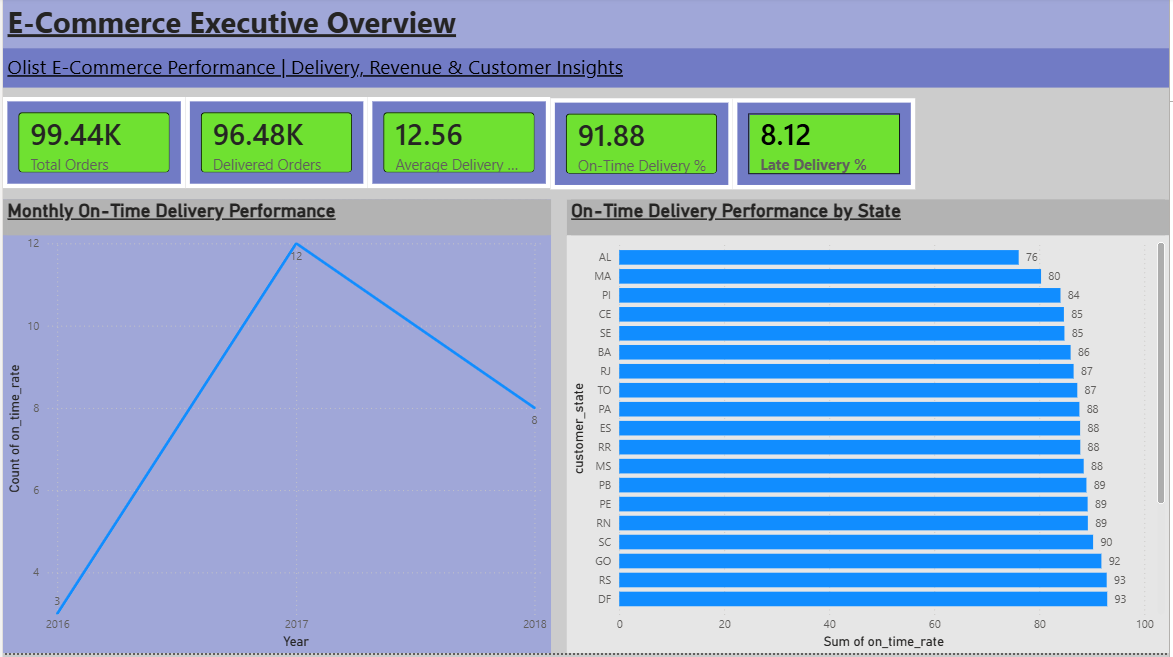

What the dashboard file says about the page in this screenshot:
{"tool":"powerbi","page":{"name":"Executive Overview","canvas":[1280,720],"ordinal":0},"visuals":[{"type":"cardVisual","fields":{"Data":["category_performance.Total Orders"]},"box":[0,110,200,100],"z":0},{"type":"cardVisual","fields":{"Data":["category_performance.Delivered Orders"]},"box":[200.3,109.8,200,100],"z":1000},{"type":"cardVisual","fields":{"Data":["category_performance.Average Delivery Days"]},"box":[400.7,109.8,200,100],"z":2000},{"type":"cardVisual","fields":{"Data":["category_performance.On-Time Delivery %"]},"box":[601,111.1,200,100],"z":3000},{"type":"cardVisual","fields":{"Data":["category_performance.Late Delivery %"]},"box":[801.4,111.1,200,100],"z":4000},{"type":"lineChart","title":"Monthly On-Time Delivery Performance","fields":{"Category":["monthly_delivery_performance.order_month.Variation.Date Hierarchy.Year","monthly_delivery_performance.order_month.Variation.Date Hierarchy.Quarter","monthly_delivery_performance.order_month.Variation.Date Hierarchy.Month","monthly_delivery_performance.order_month.Variation.Date Hierarchy.Day"],"Y":["CountNonNull(monthly_delivery_performance.on_time_rate)"]},"box":[0,221.7,601.7,498.3],"z":5000},{"type":"clusteredBarChart","title":"On-Time Delivery Performance by State","fields":{"Category":["state_delivery_performance.customer_state"],"Y":["Sum(state_delivery_performance.on_time_rate)"]},"box":[618.3,221.7,661.7,498.3],"z":6000},{"type":"textbox","box":[0,0,1280,56.7],"z":7000},{"type":"textbox","box":[0,56.7,1280,43.3],"z":8000}]}

Visuals, with their boxes in screenshot pixels (x1, y1, x2, y2), scaled from the page's 1280x720 canvas onto the 1173x657 screenshot:
cardVisual - category_performance.Total Orders: 0, 100, 183, 192
cardVisual - category_performance.Delivered Orders: 184, 100, 367, 191
cardVisual - category_performance.Average Delivery Days: 367, 100, 550, 191
cardVisual - category_performance.On-Time Delivery %: 551, 101, 734, 193
cardVisual - category_performance.Late Delivery %: 734, 101, 918, 193
"Monthly On-Time Delivery Performance" lineChart: 0, 202, 551, 656
"On-Time Delivery Performance by State" clusteredBarChart: 567, 202, 1172, 656
textbox: 0, 0, 1172, 52
textbox: 0, 52, 1172, 91
